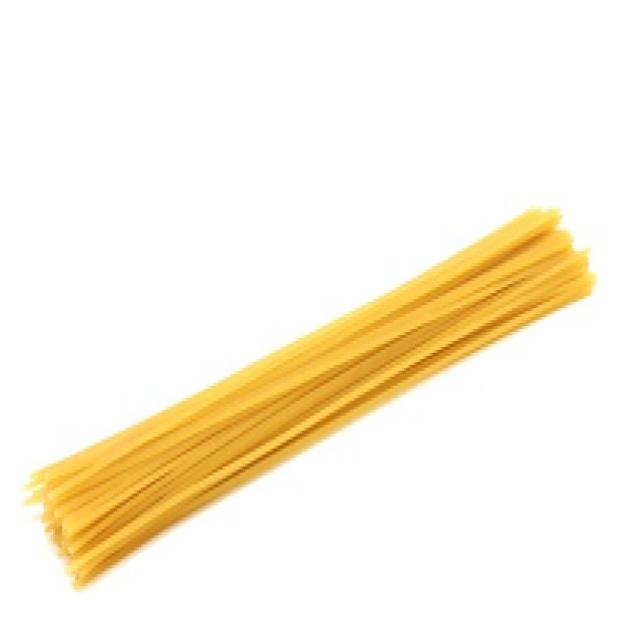noodle: (29, 209, 596, 586)
